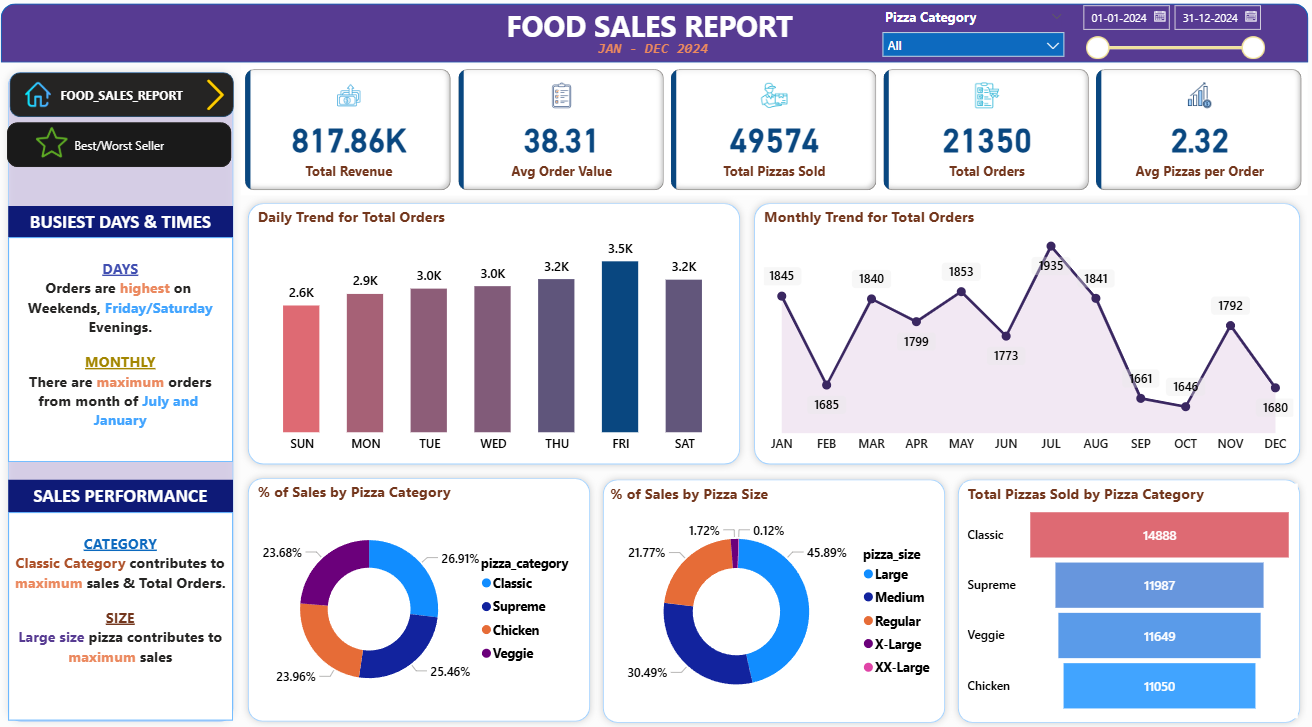

The dashboard page shown, as its layout file describes it:
{"tool":"powerbi","page":{"name":"FOOD_SALES_REPORT","canvas":[1500,820],"ordinal":0},"visuals":[{"type":"cardVisual","fields":{"Data":["pizza_sales.Total Revenue","pizza_sales.Avg Order Value","pizza_sales.Total Pizzas Sold","pizza_sales.Total Orders","pizza_sales.Avg Pizzas per Order"]},"box":[288.6,77.1,1188.6,145.7],"z":0},{"type":"shape","box":[20.9,8,1456.9,65.9],"z":1000},{"type":"textbox","box":[578.9,6.4,340.9,54.7],"z":2000},{"type":"textbox","box":[681,44.6,157.4,32],"z":3000},{"type":"shape","box":[288.6,222.9,564.3,307.1],"z":5000},{"type":"columnChart","title":"Daily Trend for Total Orders","fields":{"Category":["pizza_sales.Order Day"],"Y":["pizza_sales.Total Orders"]},"box":[302.9,234.3,535.7,284.3],"z":6000},{"type":"shape","box":[852.9,222.9,624.3,307.1],"z":7000},{"type":"areaChart","title":"Monthly Trend for Total Orders","fields":{"Category":["pizza_sales.Order Month"],"Y":["pizza_sales.Total Orders"]},"box":[865.7,234.3,600,284.3],"z":8000},{"type":"shape","box":[288.6,528.6,397.1,287.1],"z":9000},{"type":"shape","box":[684.3,530,397.1,287.1],"z":10000},{"type":"shape","box":[1080,530,397.1,287.1],"z":11000},{"type":"donutChart","title":"% of Sales by Pizza Category","fields":{"Category":["pizza_sales.pizza_category"],"Y":["pizza_sales.Total Revenue"]},"box":[302.9,540,378.6,264.3],"z":12000},{"type":"donutChart","title":"% of Sales by Pizza Size","fields":{"Y":["pizza_sales.Total Revenue"],"Category":["pizza_sales.pizza_size"]},"box":[694.3,542.9,378.6,264.3],"z":13000},{"type":"funnel","title":"Total Pizzas Sold by Pizza Category","fields":{"Category":["pizza_sales.pizza_category"],"Y":["pizza_sales.Total Pizzas Sold"]},"box":[1092.9,542.9,372.9,261.4],"z":14000},{"type":"shape","box":[21.4,77.1,267.1,740],"z":15000},{"type":"slicer","fields":{"Values":["pizza_sales.pizza_category"]},"box":[992.9,8.6,222.9,64.3],"z":16000},{"type":"slicer","fields":{"Values":["pizza_sales.new_order_date"]},"box":[1214.3,0,222.9,72.9],"z":17000},{"type":"textbox","box":[28.9,234.4,250,36.7],"z":18000},{"type":"textbox","box":[28.9,268.9,250,250],"z":19000},{"type":"textbox","box":[28.9,538.9,250,36.7],"z":20000},{"type":"textbox","box":[28.9,575.6,250,232.2],"z":21000},{"type":"pageNavigator","box":[30,85,250,50],"z":22000},{"type":"pageNavigator","box":[28.3,140,250,50],"z":23000},{"type":"image","box":[37.6,90.5,50.1,39],"z":24000},{"type":"image","box":[235,88.3,50,45],"z":25000},{"type":"image","box":[53.3,140,50,45],"z":26000}]}

Visuals, with their boxes in screenshot pixels (x1, y1, x2, y2), scaled from the page's 1500x820 canvas onto the 1312x727 screenshot:
cardVisual - pizza_sales.Total Revenue x pizza_sales.Avg Order Value: left=252, top=68, right=1292, bottom=198
shape: left=18, top=7, right=1293, bottom=66
textbox: left=506, top=6, right=805, bottom=54
textbox: left=596, top=40, right=733, bottom=68
shape: left=252, top=198, right=746, bottom=470
"Daily Trend for Total Orders" columnChart: left=265, top=208, right=733, bottom=460
shape: left=746, top=198, right=1292, bottom=470
"Monthly Trend for Total Orders" areaChart: left=757, top=208, right=1282, bottom=460
shape: left=252, top=469, right=600, bottom=723
shape: left=599, top=470, right=946, bottom=724
shape: left=945, top=470, right=1292, bottom=724
"% of Sales by Pizza Category" donutChart: left=265, top=479, right=596, bottom=713
"% of Sales by Pizza Size" donutChart: left=607, top=481, right=938, bottom=716
"Total Pizzas Sold by Pizza Category" funnel: left=956, top=481, right=1282, bottom=713
shape: left=19, top=68, right=252, bottom=724
slicer - pizza_sales.pizza_category: left=868, top=8, right=1063, bottom=65
slicer - pizza_sales.new_order_date: left=1062, top=0, right=1257, bottom=65
textbox: left=25, top=208, right=244, bottom=240
textbox: left=25, top=238, right=244, bottom=460
textbox: left=25, top=478, right=244, bottom=510
textbox: left=25, top=510, right=244, bottom=716
pageNavigator: left=26, top=75, right=245, bottom=120
pageNavigator: left=25, top=124, right=243, bottom=168
image: left=33, top=80, right=77, bottom=115
image: left=206, top=78, right=249, bottom=118
image: left=47, top=124, right=90, bottom=164
